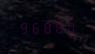eight: (42, 20, 53, 33)
nine: (18, 20, 29, 34)
six: (30, 20, 41, 34), (54, 19, 65, 33)
zero: (66, 19, 77, 33)
